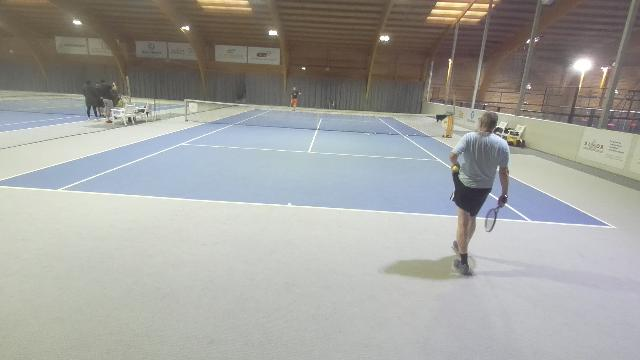tennisball: (452, 164, 460, 174), (373, 131, 377, 137), (405, 132, 409, 138), (367, 132, 371, 138), (444, 137, 448, 142), (298, 92, 302, 96), (363, 132, 367, 136), (388, 132, 392, 136), (414, 132, 416, 136)
